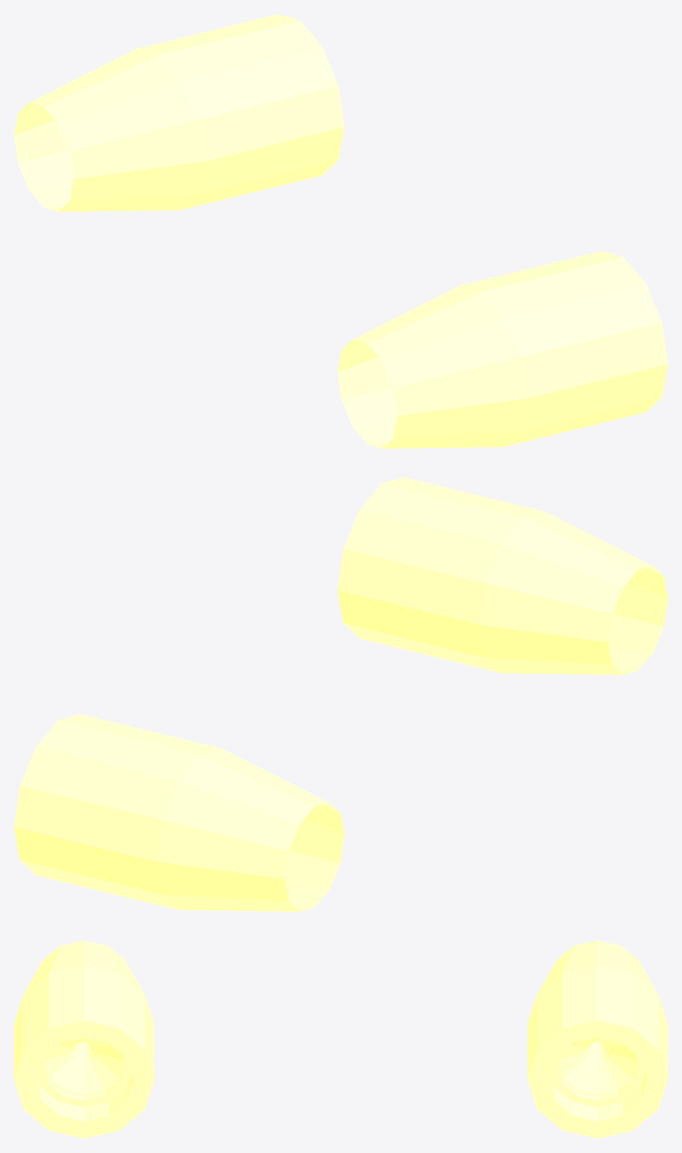
The model's file is f14burner.glb.
The picture shows the model from 3 angles, top to bottom: view 1: azimuth 30°, elevation 25°; view 2: azimuth 150°, elevation 25°; view 3: azimuth 270°, elevation 25°; orthographic projection. The views are drawn at different scales.
Parts seen in each view (by area): view 1: Object_1 2, Object_1 1; view 2: Object_1 1, Object_1 2; view 3: Object_1 2, Object_1 1.
Part boxes in pixels (x1,y1,x2,y2): Object_1 2: (337,251,667,448); Object_1 1: (14,14,344,211); Object_1 1: (14,714,344,911); Object_1 2: (337,477,667,674); Object_1 2: (14,940,154,1138); Object_1 1: (527,940,667,1138).
Bounding box in the file's own units: 1.37 × 0.7586 × 3.8.
